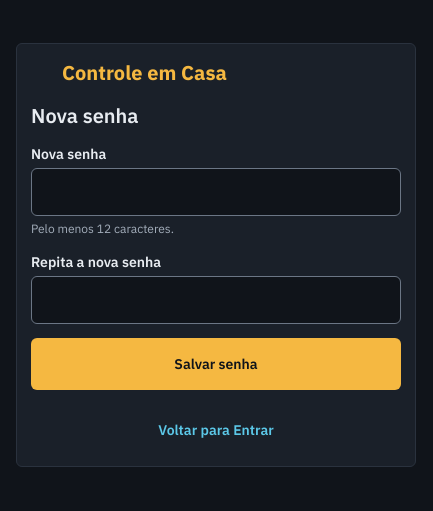
Test case: T01b Redefinir senha › sem rede: "Sem conexão." no topo e campos mantidos
Type "senha-nova-segura" into the password field labelled "Nova senha" at [216, 192], box [31, 168, 401, 216]
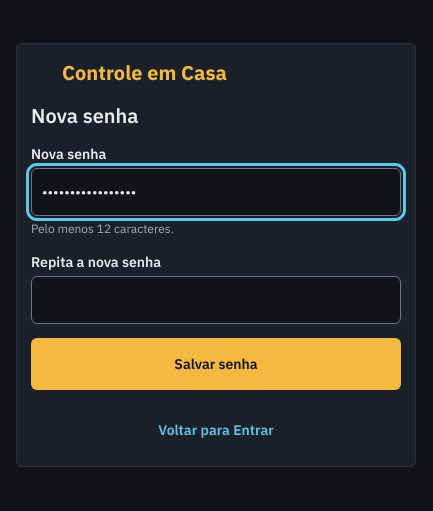
Type "senha-nova-segura" into the password field labelled "Repita a nova senha" at [216, 300], box [31, 276, 401, 324]
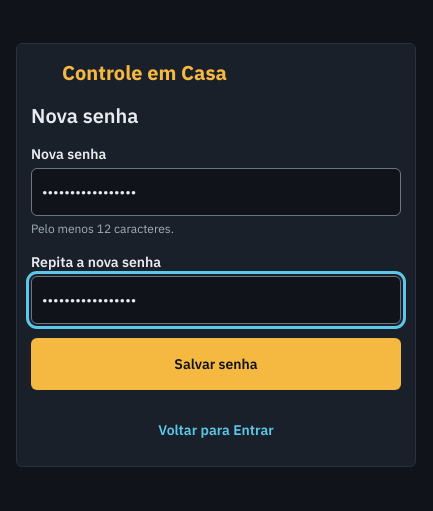
Click the button "Salvar senha" at [216, 364], box [31, 338, 401, 390]
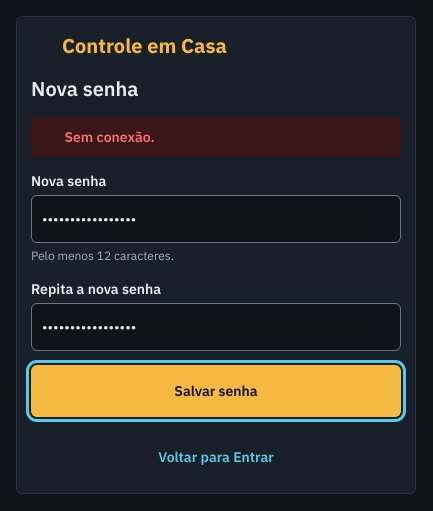
Expected: the button "Salvar senha" is shown, [31, 365, 401, 417]
Result: the message reads "Sem conexão." at [64, 128, 155, 146]
